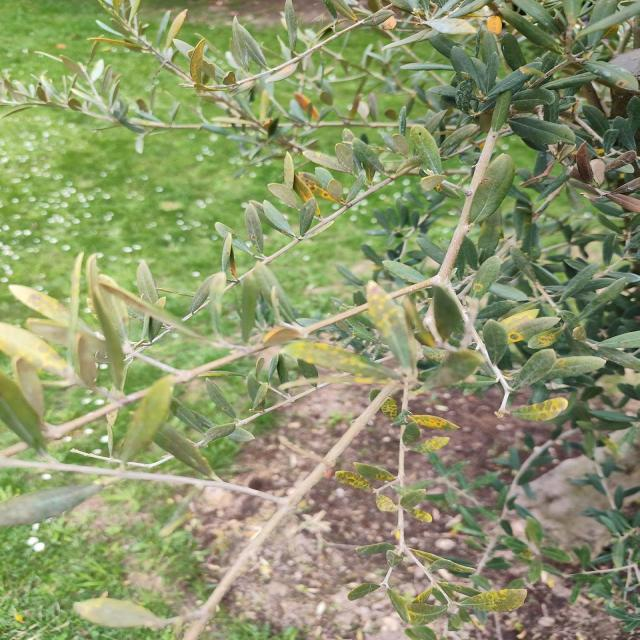Peacock Eye: (285, 338, 396, 382), (583, 61, 639, 93), (458, 589, 527, 612), (506, 316, 561, 344), (203, 378, 238, 420), (505, 398, 568, 421), (471, 255, 501, 298), (299, 172, 336, 201), (404, 602, 447, 626), (245, 202, 264, 256), (528, 324, 565, 350), (335, 470, 372, 492), (408, 414, 458, 430), (353, 463, 394, 482), (438, 578, 479, 597), (410, 436, 449, 453)
